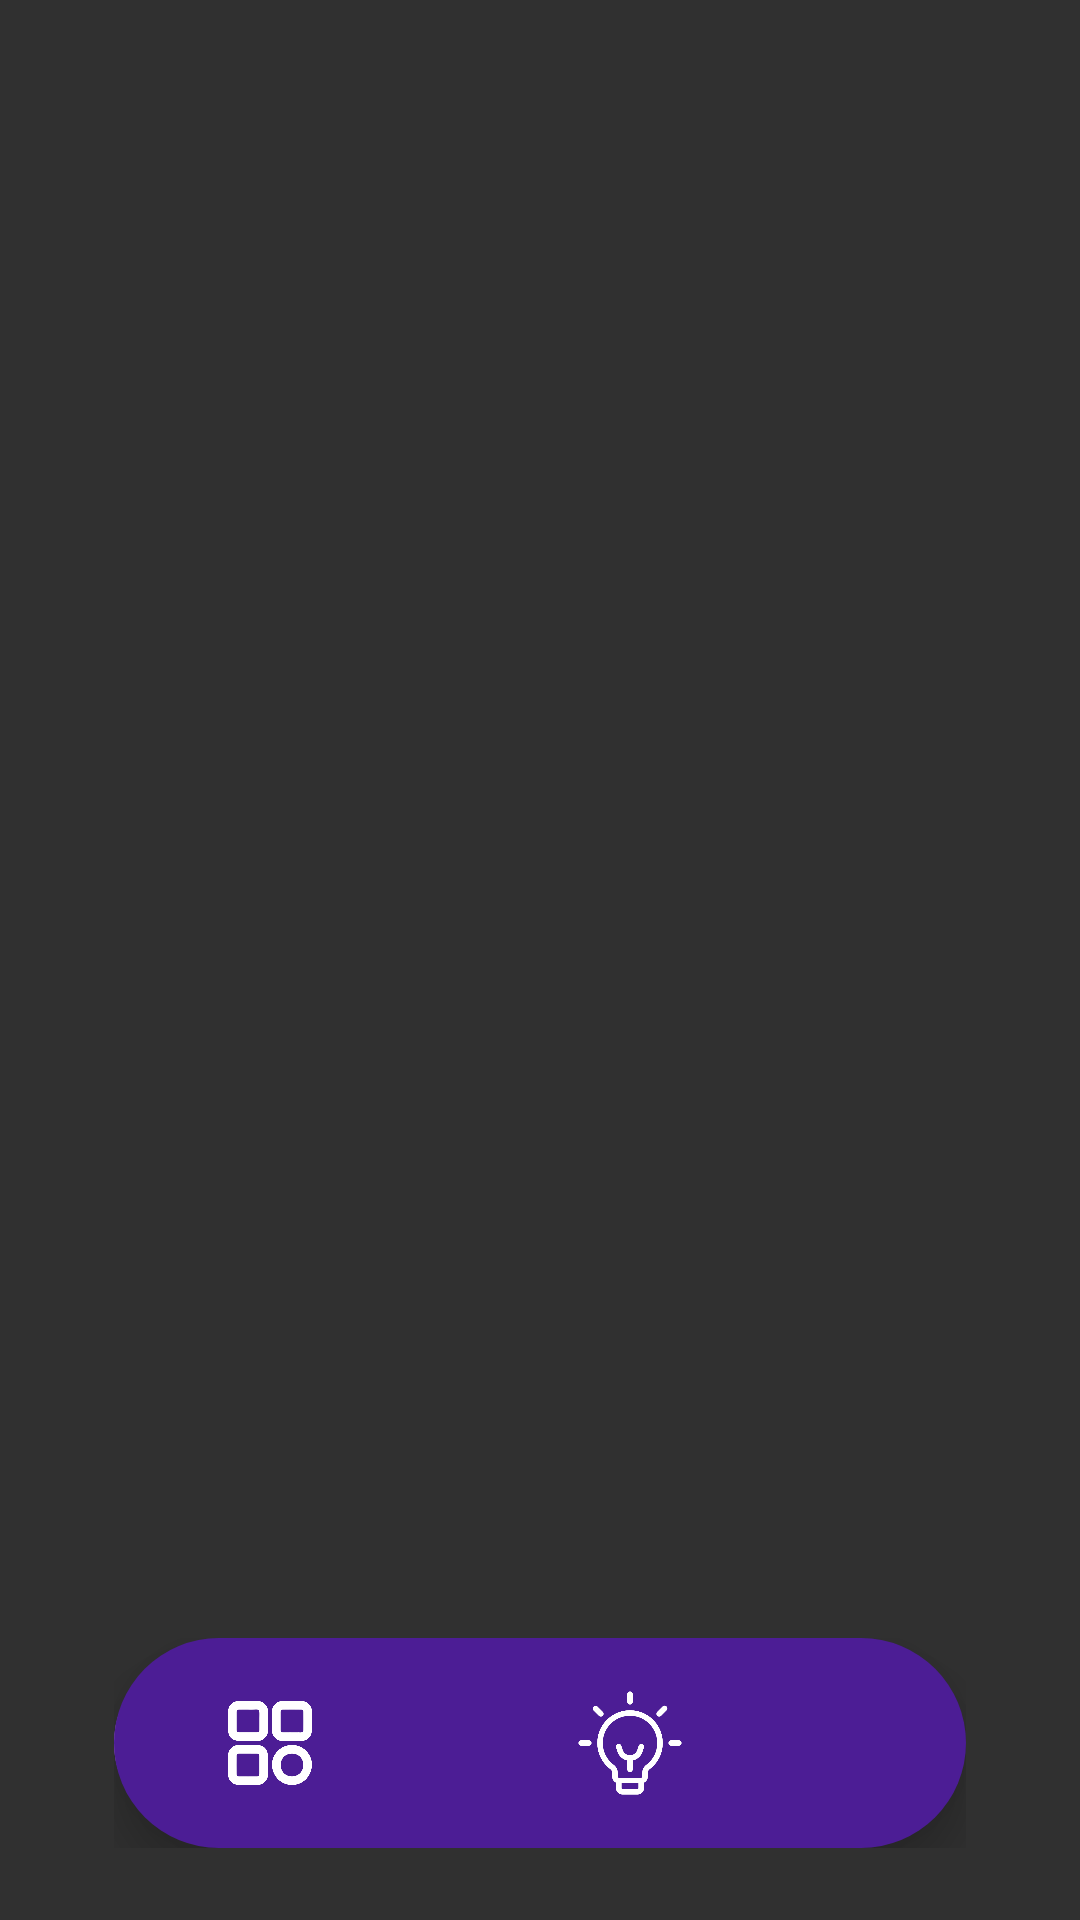

Locate icon controls on the screen. Image size 1080 x 1920, boxes as (x1, y1, x2, y2).
idea: (578, 1691, 682, 1795)
menu: (228, 1701, 312, 1785)
